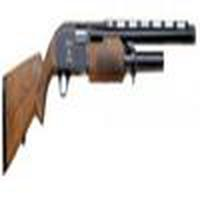gun: (5, 18, 200, 137)
